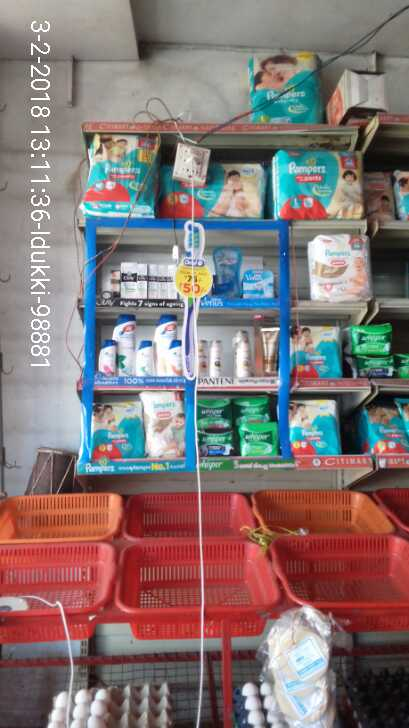venus: (214, 250, 242, 294), (242, 270, 276, 294)
